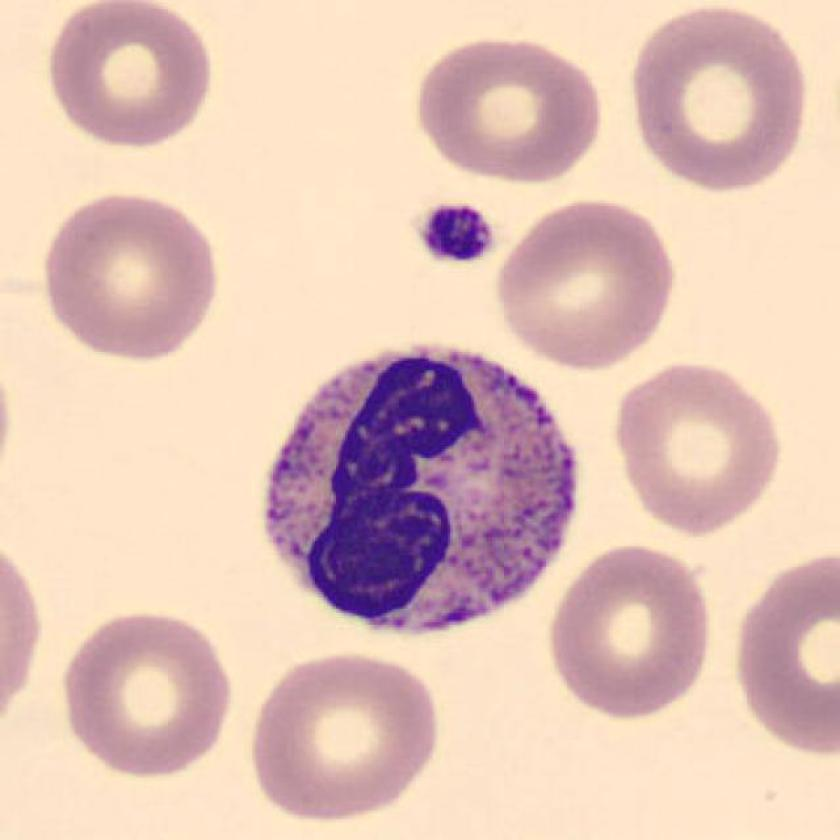neutrophil: (264, 350, 575, 635)
